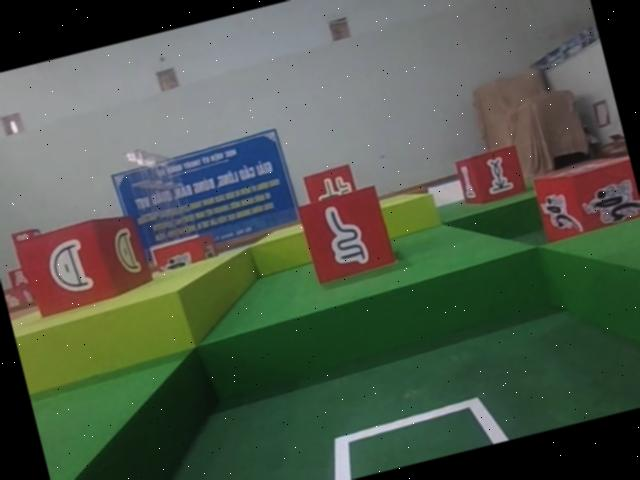R1: (527, 145, 640, 260), (148, 228, 226, 291)
R2 Fake: (295, 183, 400, 291)
R2 Real: (10, 204, 161, 324), (451, 141, 531, 215), (298, 159, 365, 218)
